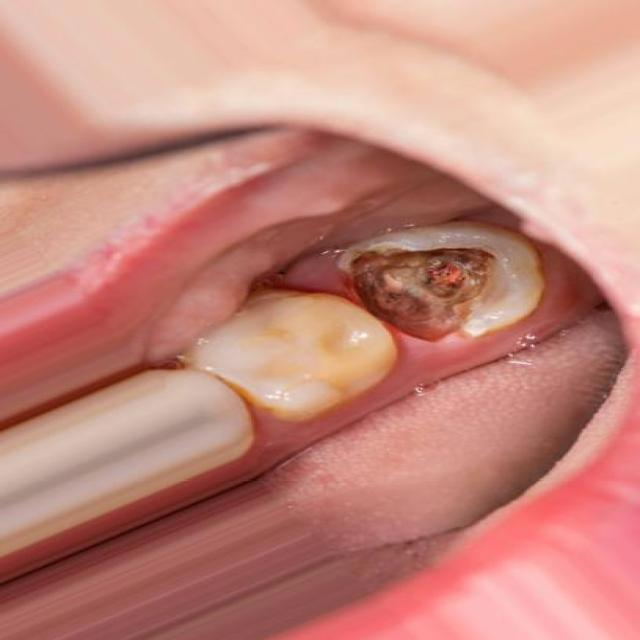caries: (322, 232, 512, 359)
